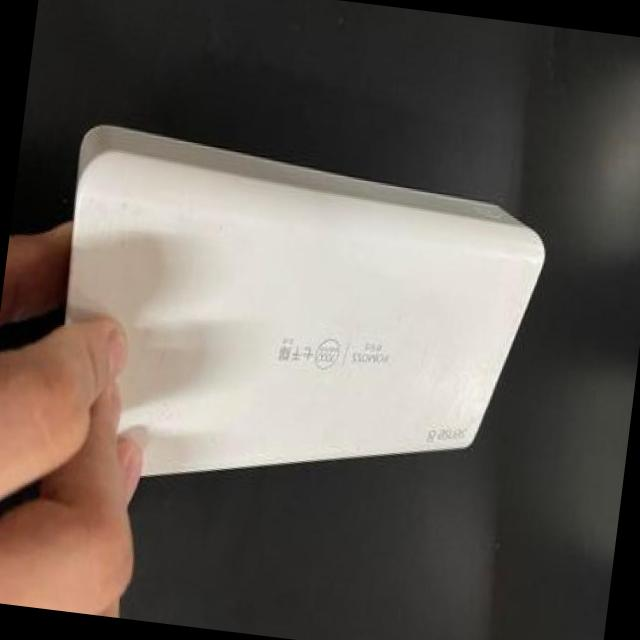power_bank: (22, 110, 557, 545)
